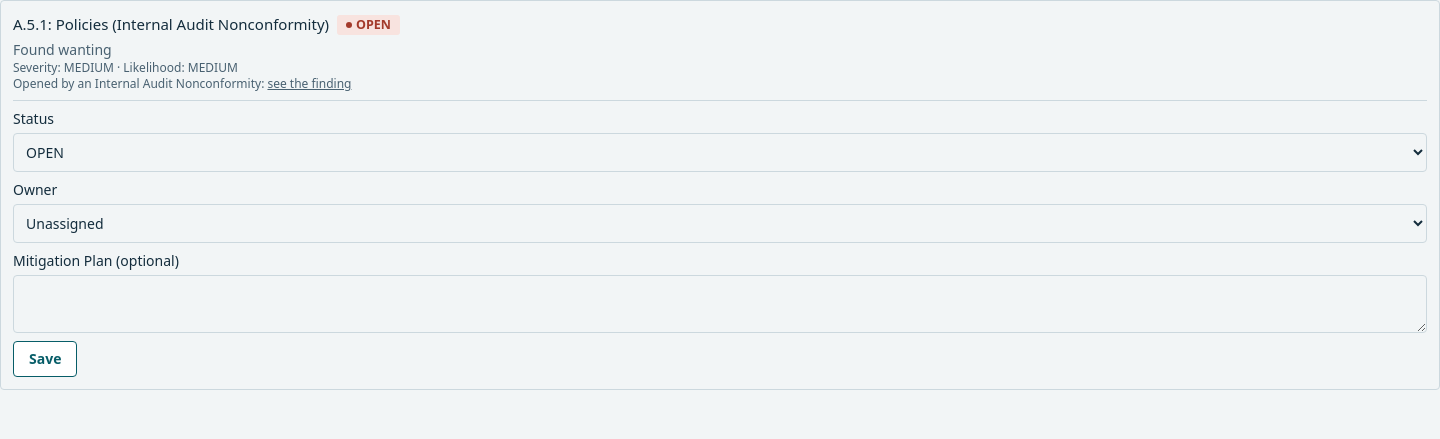
OrganizationRiskList (#157) › saves status, mitigation plan and owner to /api/risks/[id] and shows the saved Risk
Select "MITIGATED" in the dropdown labelled "Status": coordinates (720, 153) [13,133,1427,172]
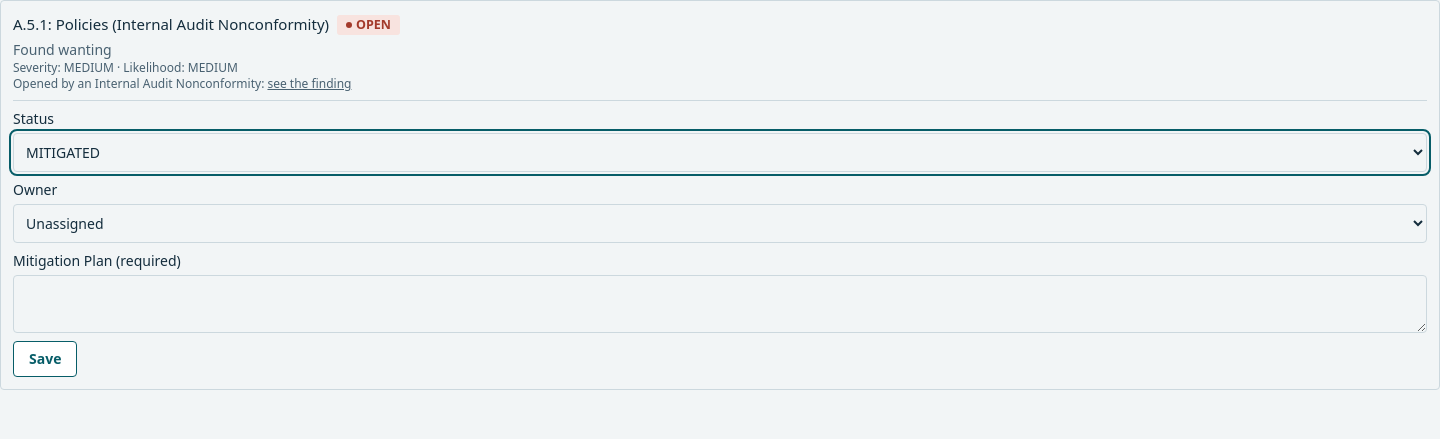
In the text box labelled "Mitigation Plan (required)": coordinates (720, 304) [13,275,1427,333], type "Rewrite"
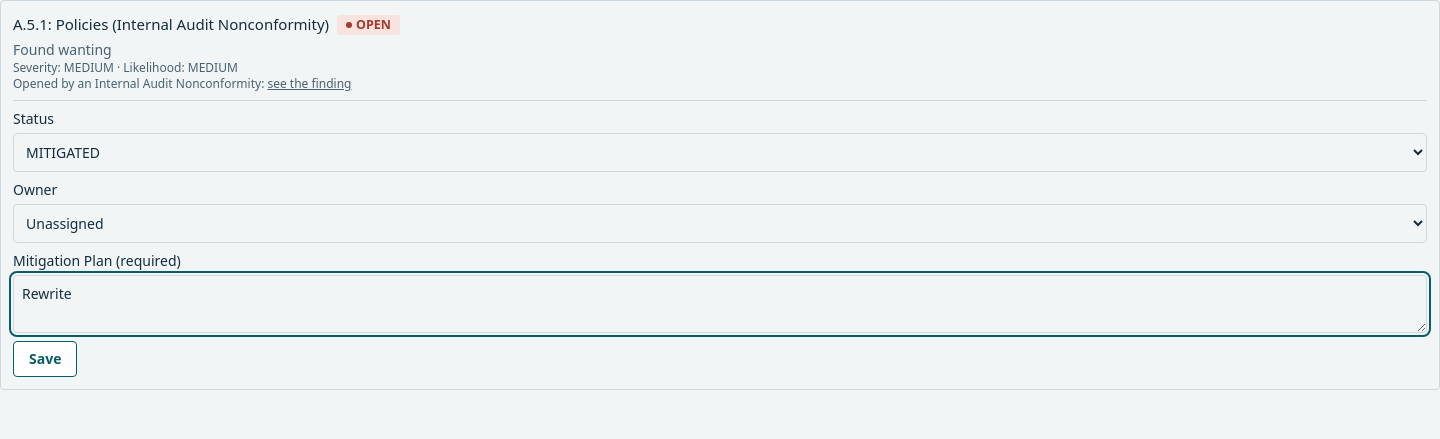
Select "Rita Risk" in the dropdown labelled "Owner": coordinates (720, 224) [13,204,1427,243]
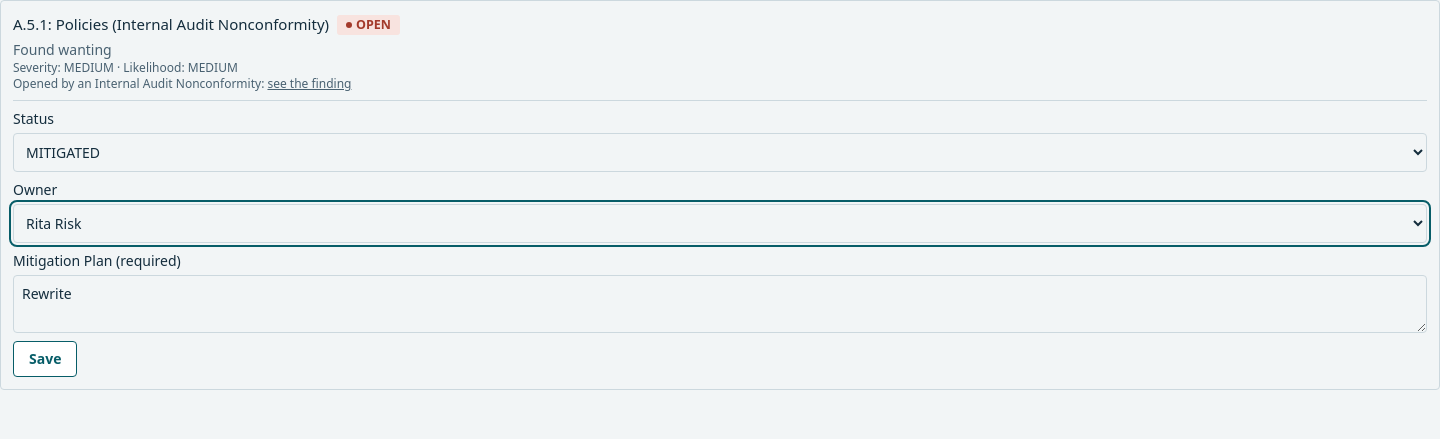
Click the button "Save": coordinates (45, 359) [13,341,77,377]
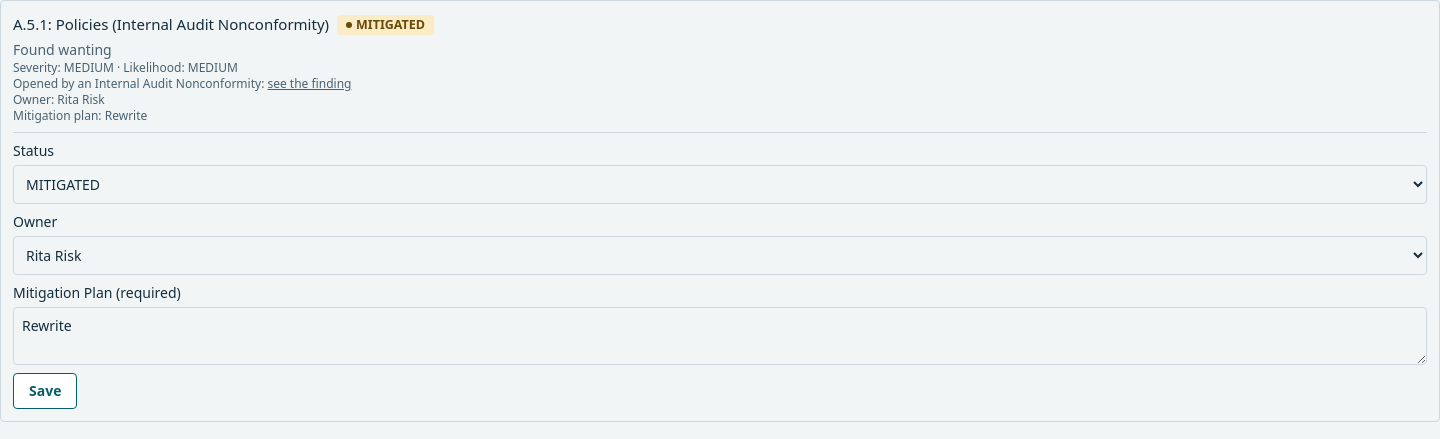
Expected: the text "Owner: Rita Risk" is shown, [13,91,105,108]
